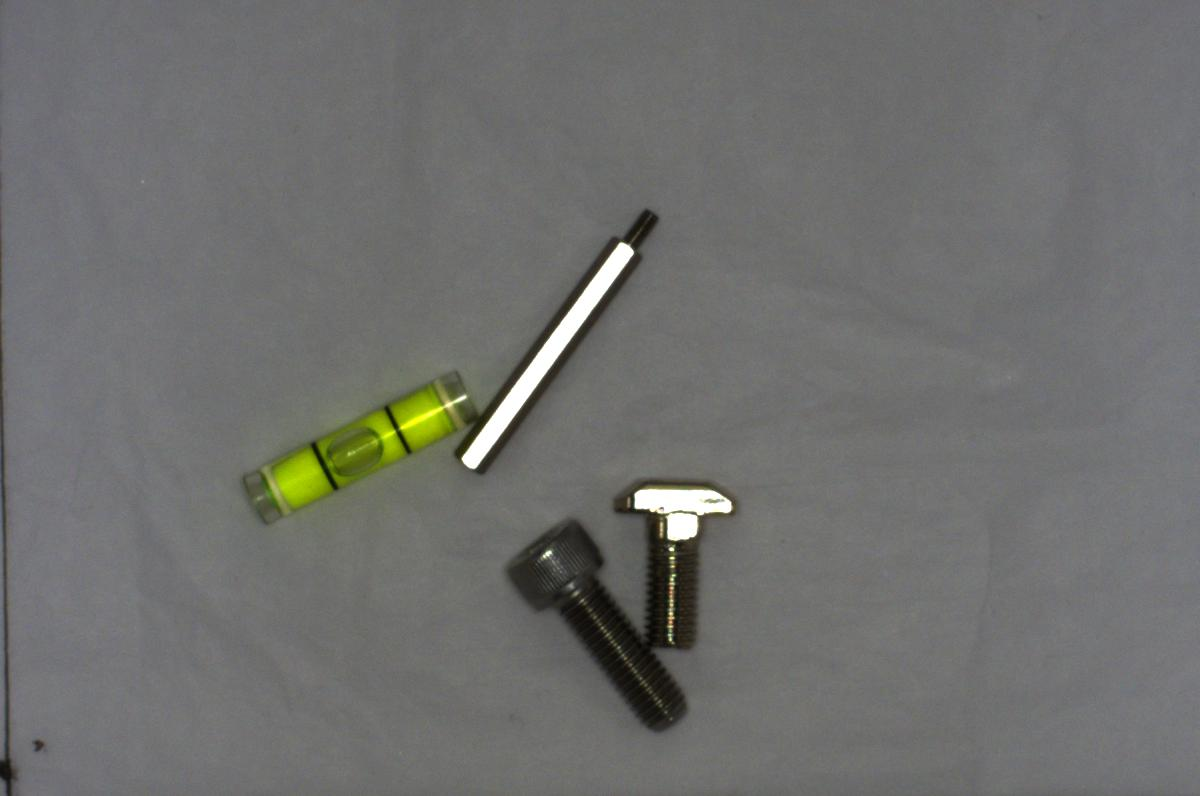Hexagon screw: (497, 516, 688, 734)
Hexagonal steel column: (437, 194, 665, 476)
Horizontal bubble: (233, 367, 479, 526)
T-shaped screw: (606, 468, 744, 655)
